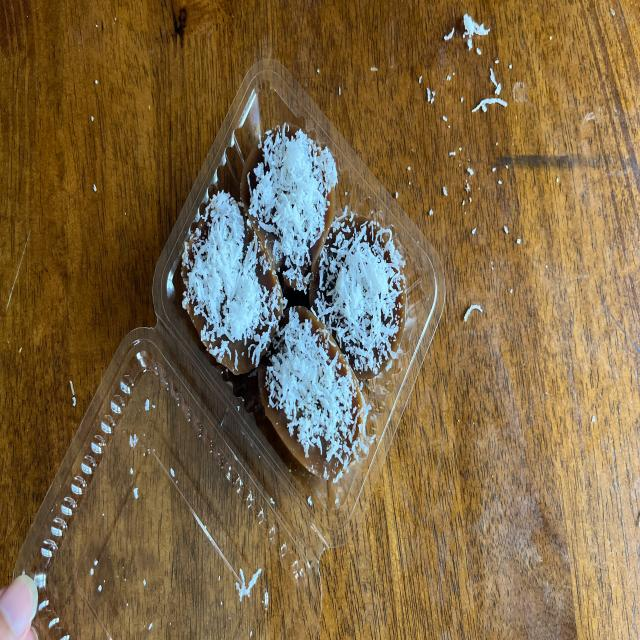Kuih lompang: (181, 191, 282, 373), (259, 307, 364, 482), (240, 124, 338, 293), (242, 124, 338, 293), (310, 213, 406, 380)
